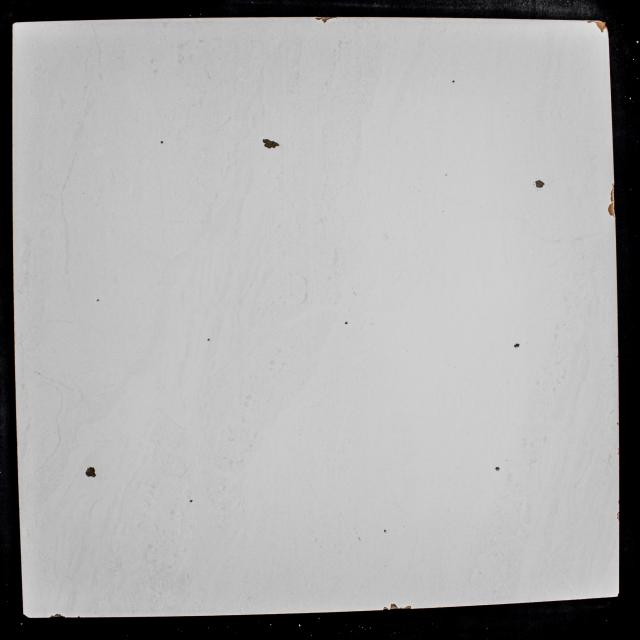edge-chipping: (608, 202, 616, 218), (314, 16, 328, 24), (596, 25, 609, 33), (610, 183, 615, 202), (587, 20, 608, 24), (50, 613, 65, 618), (390, 604, 398, 610), (399, 606, 411, 610), (616, 511, 620, 522), (328, 17, 338, 20), (382, 606, 389, 610), (23, 614, 29, 618), (617, 448, 620, 455), (618, 592, 620, 596)
hole: (262, 138, 281, 149), (85, 466, 97, 478), (535, 179, 545, 188), (514, 343, 520, 348), (495, 467, 500, 471), (160, 140, 163, 144), (452, 80, 455, 83), (207, 338, 210, 341), (189, 500, 193, 502), (384, 529, 386, 533), (96, 299, 100, 301), (345, 322, 348, 324)
